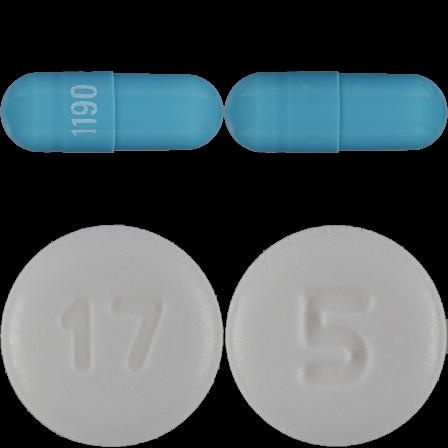13668-190: (0, 0, 224, 224)
